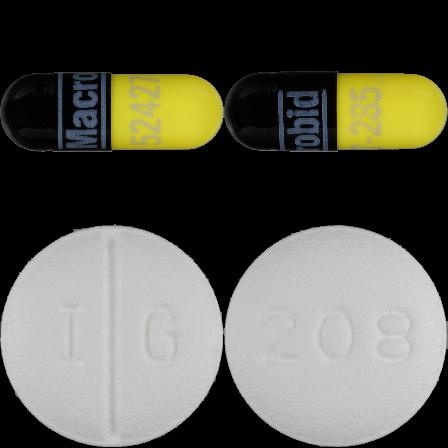42254-064: (0, 0, 224, 224)
